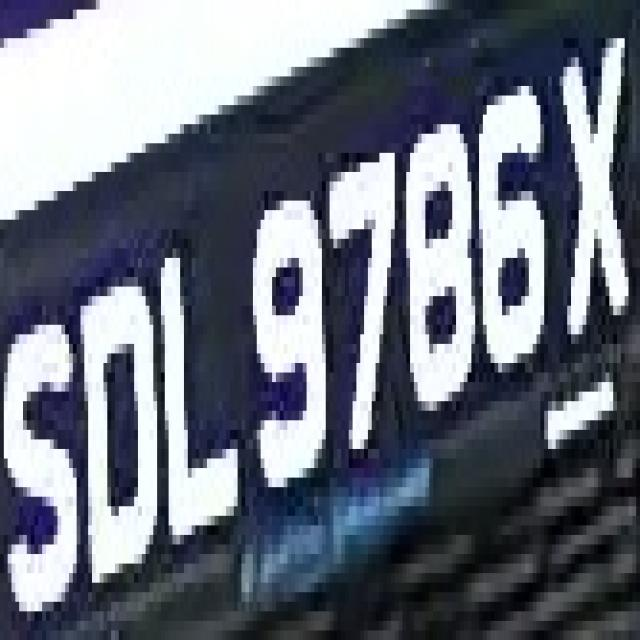6: (468, 48, 548, 401)
7: (326, 134, 398, 478)
8: (395, 124, 475, 420)
9: (245, 191, 345, 487)
D: (77, 268, 153, 612)
L: (150, 248, 249, 535)
S: (8, 306, 88, 621)
X: (556, 29, 636, 354)
